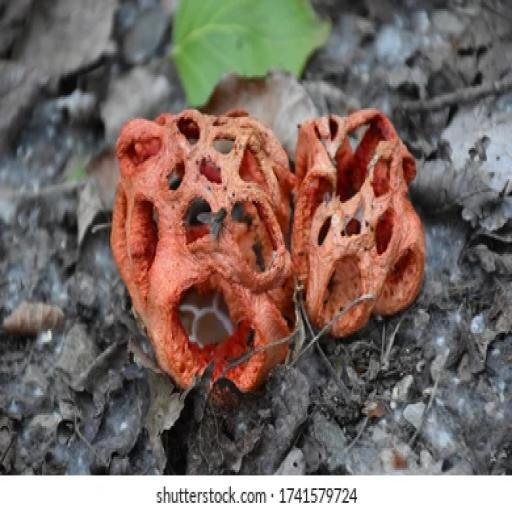mushroom: (109, 101, 307, 403), (289, 102, 429, 342)
